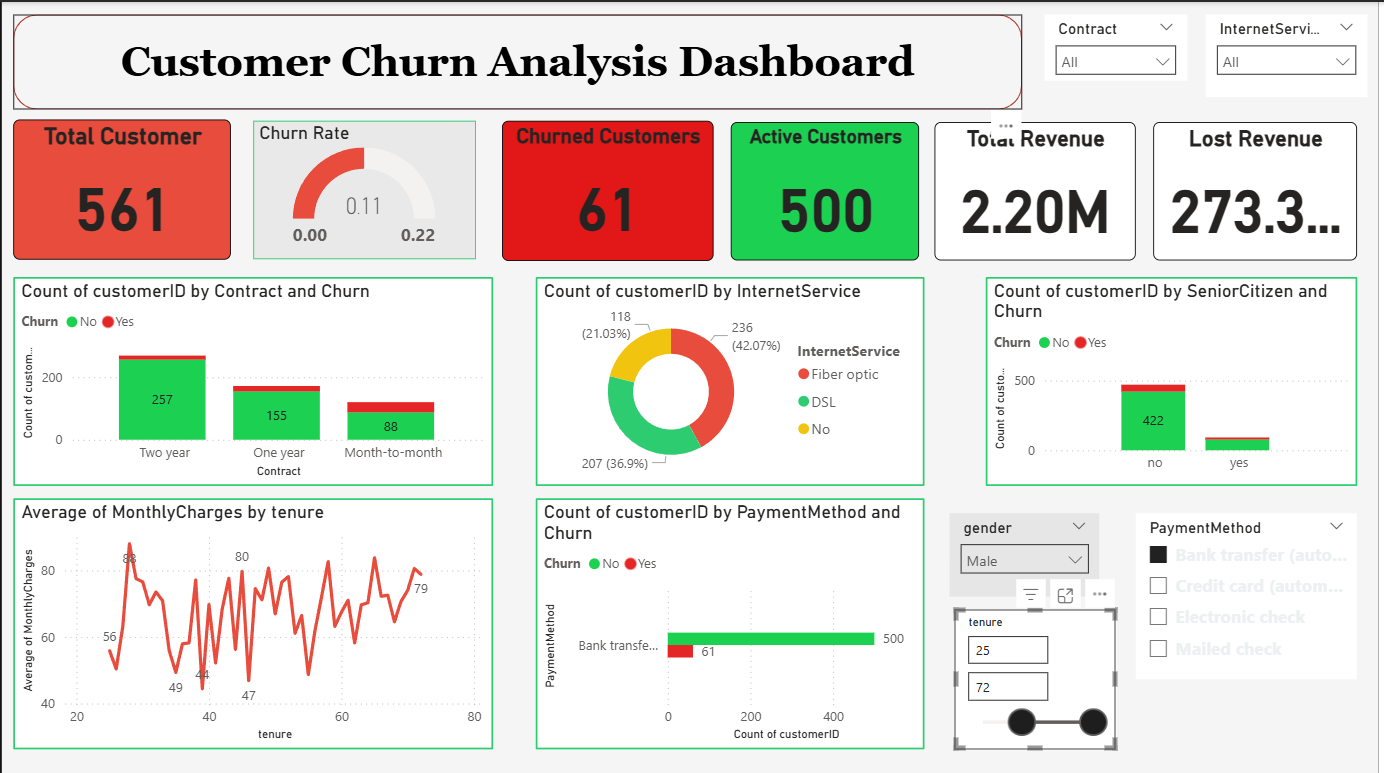

This screenshot's page, from the dashboard's own definition file:
{"tool":"powerbi","page":{"name":"Page 1","canvas":[1280,720],"ordinal":0},"visuals":[{"type":"card","title":"Total Customer ","fields":{"Values":["WA_Fn-UseC_-Telco-Customer-Churn (1).Total Customers"]},"box":[10.5,109.3,202.3,130.2],"z":0},{"type":"card","title":"Churned Customers","fields":{"Values":["WA_Fn-UseC_-Telco-Customer-Churn (1).Churned Customers"]},"box":[465.1,110.5,196.5,130.2],"z":1000},{"type":"card","title":"Active Customers","fields":{"Values":["WA_Fn-UseC_-Telco-Customer-Churn (1).Active Customers"]},"box":[677.9,111.6,175.6,129.1],"z":2000},{"type":"gauge","fields":{"Y":["WA_Fn-UseC_-Telco-Customer-Churn (1).Churn Rate"]},"box":[233.7,110.5,207,129.1],"z":3000},{"type":"card","title":"Total Revenue","fields":{"Values":["WA_Fn-UseC_-Telco-Customer-Churn (1).Total Revenue"]},"box":[867.4,111.6,187.2,129.1],"z":4000},{"type":"card","title":"Lost Revenue","fields":{"Values":["WA_Fn-UseC_-Telco-Customer-Churn (1).Lost Revenue"]},"box":[1070.9,111.6,189.5,129.1],"z":5000},{"type":"columnChart","fields":{"Category":["WA_Fn-UseC_-Telco-Customer-Churn (1).Contract"],"Series":["WA_Fn-UseC_-Telco-Customer-Churn (1).Churn"],"Y":["CountNonNull(WA_Fn-UseC_-Telco-Customer-Churn (1).customerID)"]},"box":[10.5,255.8,446.5,194.2],"z":6000},{"type":"donutChart","fields":{"Category":["WA_Fn-UseC_-Telco-Customer-Churn (1).InternetService"],"Y":["CountNonNull(WA_Fn-UseC_-Telco-Customer-Churn (1).customerID)"]},"box":[496.5,255.8,361.6,194.2],"z":7000},{"type":"lineChart","fields":{"Category":["WA_Fn-UseC_-Telco-Customer-Churn (1).tenure"],"Y":["Avg(WA_Fn-UseC_-Telco-Customer-Churn (1).MonthlyCharges)"]},"box":[10.5,461.6,446.5,233.7],"z":8000},{"type":"clusteredBarChart","fields":{"Category":["WA_Fn-UseC_-Telco-Customer-Churn (1).PaymentMethod"],"Y":["CountNonNull(WA_Fn-UseC_-Telco-Customer-Churn (1).customerID)"],"Series":["WA_Fn-UseC_-Telco-Customer-Churn (1).Churn"]},"box":[496.5,461.6,361.6,233.7],"z":9000},{"type":"columnChart","fields":{"Category":["WA_Fn-UseC_-Telco-Customer-Churn (1).SeniorCitizen"],"Y":["CountNonNull(WA_Fn-UseC_-Telco-Customer-Churn (1).customerID)"],"Series":["WA_Fn-UseC_-Telco-Customer-Churn (1).Churn"]},"box":[915.1,255.8,345.3,194.2],"z":10000},{"type":"slicer","fields":{"Values":["WA_Fn-UseC_-Telco-Customer-Churn (1).gender"]},"box":[881.4,475.6,139.5,77.9],"z":11000},{"type":"slicer","fields":{"Values":["WA_Fn-UseC_-Telco-Customer-Churn (1).Contract"]},"box":[969.8,11.6,132.6,61.6],"z":12000},{"type":"slicer","fields":{"Values":["WA_Fn-UseC_-Telco-Customer-Churn (1).InternetService"]},"box":[1119.8,11.6,150,76.7],"z":13000},{"type":"shape","box":[10.5,11.6,938.4,88.4],"z":14000},{"type":"slicer","fields":{"Values":["WA_Fn-UseC_-Telco-Customer-Churn (1).PaymentMethod"]},"box":[1054.7,475.6,205.8,154.7],"z":15000},{"type":"slicer","fields":{"Values":["WA_Fn-UseC_-Telco-Customer-Churn (1).tenure"]},"box":[886,565.1,150,130.2],"z":16000}]}

Visuals, with their boxes in screenshot pixels (x1, y1, x2, y2), scaled from the page's 1280x720 canvas onto the 1384x773 screenshot:
"Total Customer " card: l=11, t=117, r=230, b=257
"Churned Customers" card: l=503, t=119, r=715, b=258
"Active Customers" card: l=733, t=120, r=923, b=258
gauge - WA_Fn-UseC_-Telco-Customer-Churn (1).Churn Rate: l=253, t=119, r=477, b=257
"Total Revenue" card: l=938, t=120, r=1140, b=258
"Lost Revenue" card: l=1158, t=120, r=1363, b=258
columnChart - WA_Fn-UseC_-Telco-Customer-Churn (1).Contract x WA_Fn-UseC_-Telco-Customer-Churn (1).Churn: l=11, t=275, r=494, b=483
donutChart - WA_Fn-UseC_-Telco-Customer-Churn (1).InternetService x CountNonNull(WA_Fn-UseC_-Telco-Customer-Churn (1).customerID): l=537, t=275, r=928, b=483
lineChart - WA_Fn-UseC_-Telco-Customer-Churn (1).tenure x Avg(WA_Fn-UseC_-Telco-Customer-Churn (1).MonthlyCharges): l=11, t=496, r=494, b=746
clusteredBarChart - WA_Fn-UseC_-Telco-Customer-Churn (1).PaymentMethod x CountNonNull(WA_Fn-UseC_-Telco-Customer-Churn (1).customerID): l=537, t=496, r=928, b=746
columnChart - WA_Fn-UseC_-Telco-Customer-Churn (1).SeniorCitizen x CountNonNull(WA_Fn-UseC_-Telco-Customer-Churn (1).customerID): l=989, t=275, r=1363, b=483
slicer - WA_Fn-UseC_-Telco-Customer-Churn (1).gender: l=953, t=511, r=1104, b=594
slicer - WA_Fn-UseC_-Telco-Customer-Churn (1).Contract: l=1049, t=12, r=1192, b=79
slicer - WA_Fn-UseC_-Telco-Customer-Churn (1).InternetService: l=1211, t=12, r=1373, b=95
shape: l=11, t=12, r=1026, b=107
slicer - WA_Fn-UseC_-Telco-Customer-Churn (1).PaymentMethod: l=1140, t=511, r=1363, b=677
slicer - WA_Fn-UseC_-Telco-Customer-Churn (1).tenure: l=958, t=607, r=1120, b=746
